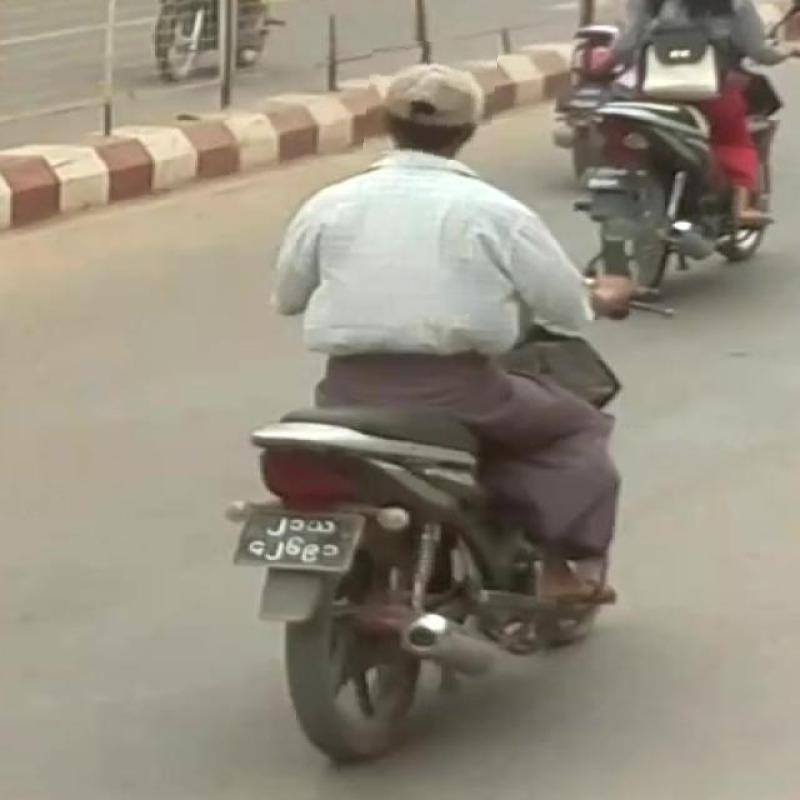nohelmet: (366, 40, 496, 161)
